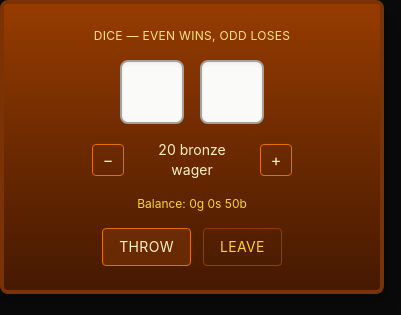
DiceGame › plays the lose sound on a losing throw
What coordinates should you click on to do the following:
click the button "Throw"
I would click on:
 (147, 247)
Its box is [102,228,191,266].
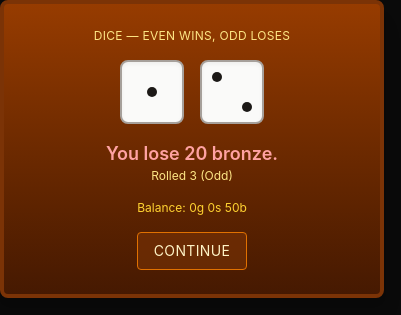
Expected: the text "You lose 20 bronze." is shown, [106,140,278,168]
